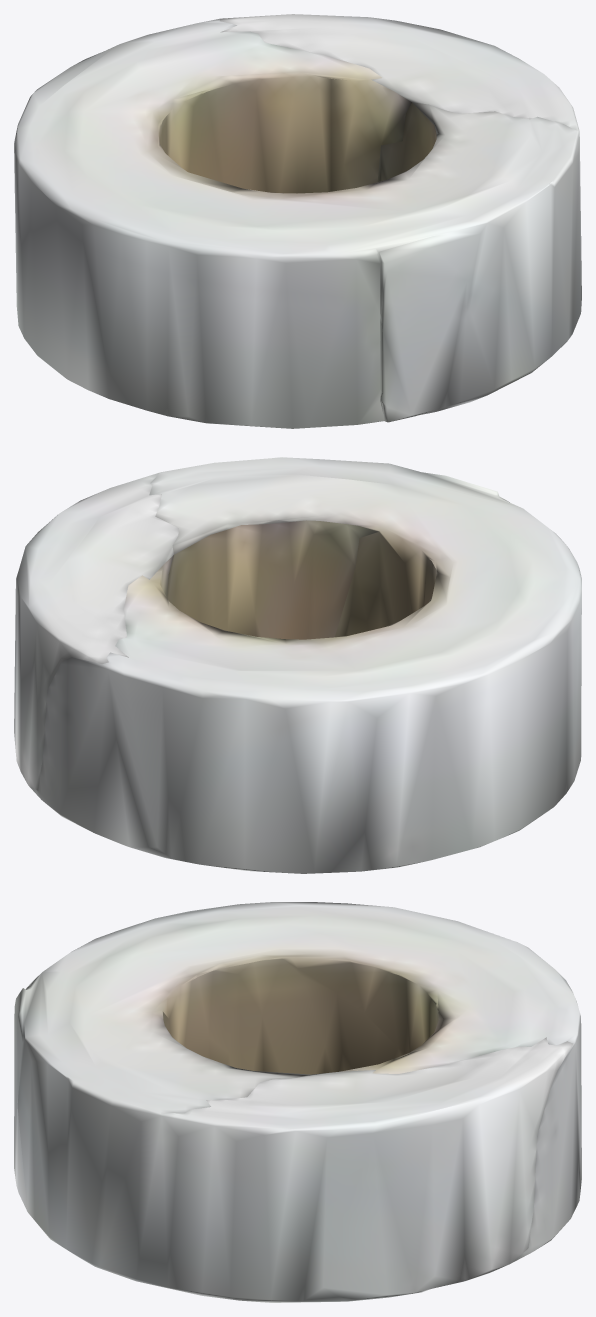
Rendered from Cole_Hardware_Antislip_Surfacing_White_2_x_60-medium.glb.
The picture shows the model from 3 angles, top to bottom: view 1: azimuth 30°, elevation 25°; view 2: azimuth 150°, elevation 25°; view 3: azimuth 270°, elevation 25°; orthographic projection.
Parts seen in each view (by area): view 1: Cole_Hardware_Antislip_Surfacing_White_2_x_60; view 2: Cole_Hardware_Antislip_Surfacing_White_2_x_60; view 3: Cole_Hardware_Antislip_Surfacing_White_2_x_60.
Part boxes in pixels (left/top/right/bottom): Cole_Hardware_Antislip_Surfacing_White_2_x_60: left=14, top=14, right=581, bottom=428; Cole_Hardware_Antislip_Surfacing_White_2_x_60: left=14, top=457, right=581, bottom=873; Cole_Hardware_Antislip_Surfacing_White_2_x_60: left=14, top=902, right=581, bottom=1302.
Bounding box in the file's own units: 0.1569 × 0.0558 × 0.1578.
1 material, 1 textured.
